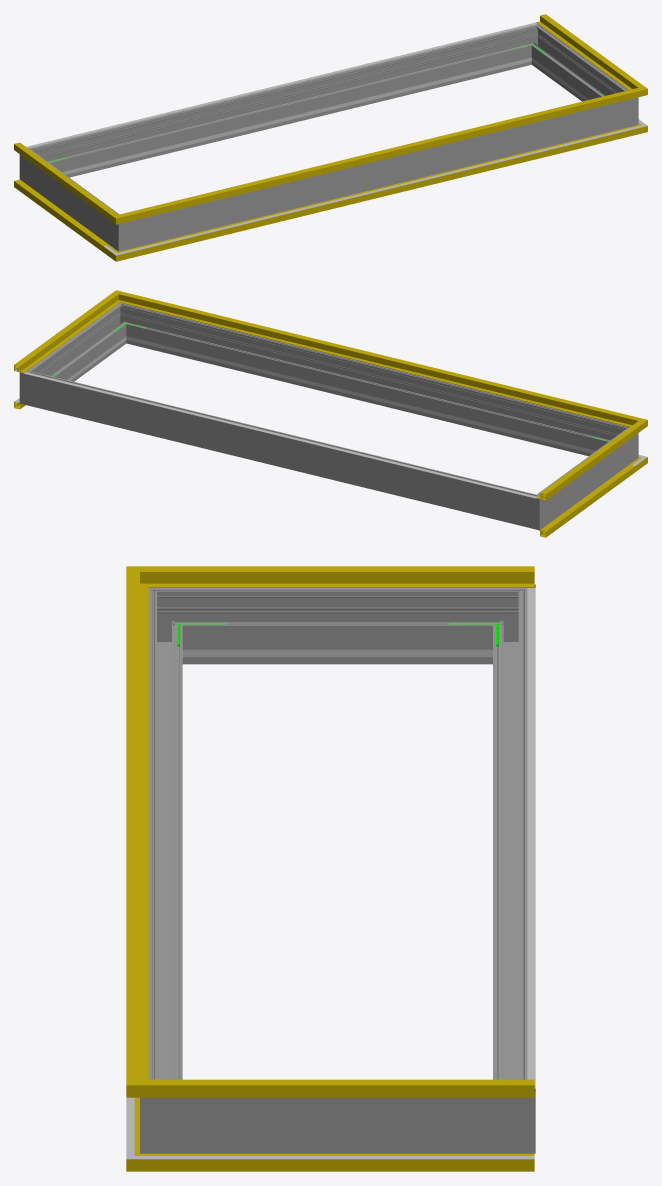
3 views of the same model, one above another, from view 1: azimuth 30°, elevation 25°; view 2: azimuth 150°, elevation 25°; view 3: azimuth 270°, elevation 25° (orthographic). The views are drawn at different scales.
Visible parts, largest first — view 1: 3DGeom-276, 3DGeom-298, 3DGeom-123, 3DGeom-11, 3DGeom-297, 3DGeom-268, 3DGeom-244, 3DGeom-128, 3DGeom-220, 3DGeom-20, 3DGeom-118, 3DGeom-270 (+6 smaller); view 2: 3DGeom-298, 3DGeom-276, 3DGeom-123, 3DGeom-297, 3DGeom-268, 3DGeom-239, 3DGeom-128, 3DGeom-220, 3DGeom-118, 3DGeom-278, 3DGeom-6, 3DGeom-284 (+4 smaller); view 3: 3DGeom-268, 3DGeom-297, 3DGeom-276, 3DGeom-298, 3DGeom-123, 3DGeom-118, 3DGeom-128, 3DGeom-16, 3DGeom-220, 3DGeom-284, 3DGeom-290, 3DGeom-278 (+6 smaller).
Part boxes in pixels (bbox=[...]): 3DGeom-276: bbox=[44, 28, 527, 177]; 3DGeom-298: bbox=[140, 103, 616, 245]; 3DGeom-123: bbox=[135, 92, 625, 219]; 3DGeom-11: bbox=[135, 129, 625, 256]; 3DGeom-297: bbox=[534, 32, 621, 101]; 3DGeom-268: bbox=[32, 156, 112, 241]; 3DGeom-244: bbox=[70, 63, 510, 173]; 3DGeom-128: bbox=[536, 14, 634, 87]; 3DGeom-220: bbox=[26, 22, 537, 148]; 3DGeom-20: bbox=[136, 130, 624, 249]; 3DGeom-118: bbox=[14, 142, 108, 214]; 3DGeom-270: bbox=[106, 209, 140, 251]; 3DGeom-298: bbox=[130, 307, 614, 456]; 3DGeom-276: bbox=[42, 375, 520, 524]; 3DGeom-123: bbox=[133, 295, 625, 424]; 3DGeom-297: bbox=[36, 310, 124, 381]; 3DGeom-268: bbox=[545, 434, 625, 520]; 3DGeom-239: bbox=[148, 341, 587, 452]; 3DGeom-128: bbox=[14, 299, 112, 373]; 3DGeom-220: bbox=[23, 372, 536, 498]; 3DGeom-118: bbox=[536, 428, 635, 500]; 3DGeom-278: bbox=[517, 488, 552, 530]; 3DGeom-6: bbox=[538, 465, 635, 537]; 3DGeom-284: bbox=[19, 364, 45, 408]; 3DGeom-268: bbox=[191, 588, 484, 664]; 3DGeom-297: bbox=[191, 1097, 484, 1153]; 3DGeom-276: bbox=[493, 606, 527, 1079]; 3DGeom-298: bbox=[148, 606, 182, 1079]; 3DGeom-123: bbox=[126, 588, 148, 1075]; 3DGeom-118: bbox=[177, 566, 534, 587]; 3DGeom-128: bbox=[177, 1079, 534, 1097]; 3DGeom-16: bbox=[177, 1153, 534, 1171]; 3DGeom-220: bbox=[527, 587, 535, 1088]; 3DGeom-284: bbox=[484, 1070, 535, 1153]; 3DGeom-290: bbox=[140, 1070, 191, 1153]; 3DGeom-278: bbox=[484, 584, 535, 664].
Size of the model in its own units: 3.66 by 0.2836 by 1.22.
